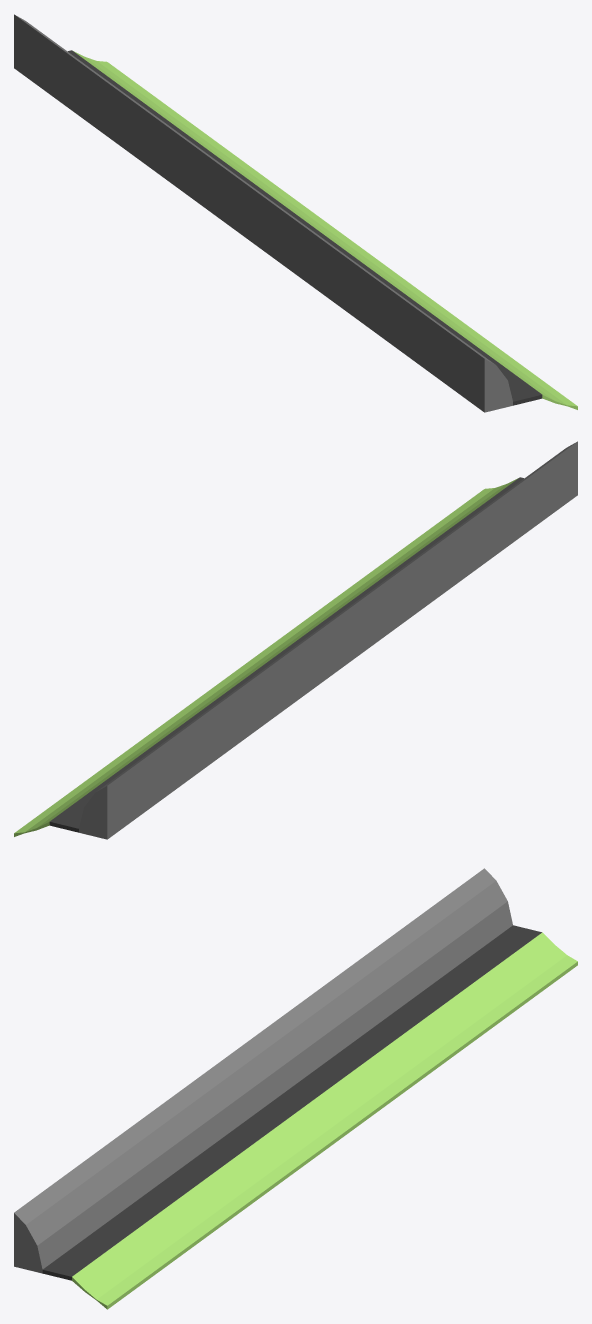
Rendered from Terrain.fbx.
3 renders of one model, top to bottom at view 1: azimuth 30°, elevation 25°; view 2: azimuth 150°, elevation 25°; view 3: azimuth 330°, elevation 25°, orthographic.
Parts seen in each view (by area): view 1: Cube.002; view 2: Cube.002; view 3: Cube.002.
Boxes of the visible parts, x1,y1,x2,y2 form: Cube.002: (14, 14, 577, 412); Cube.002: (14, 441, 577, 839); Cube.002: (14, 868, 577, 1309).
Bounding box in the file's own units: 2613 × 1985 × 22804.
